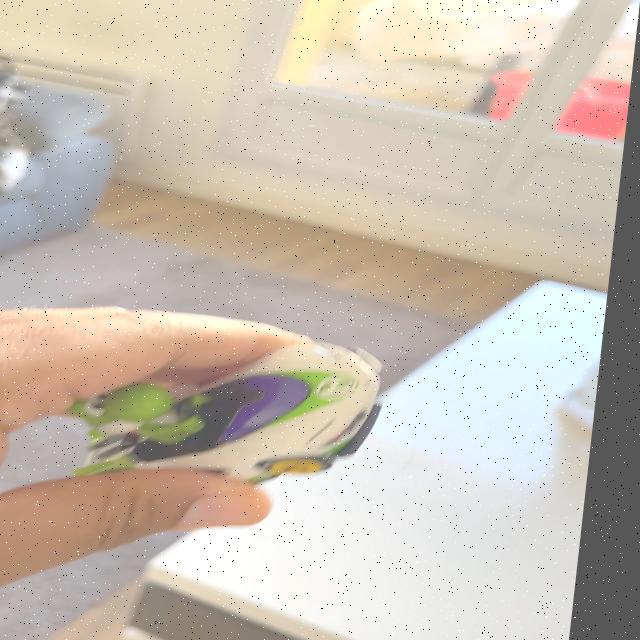yoshi: (37, 349, 375, 505)
